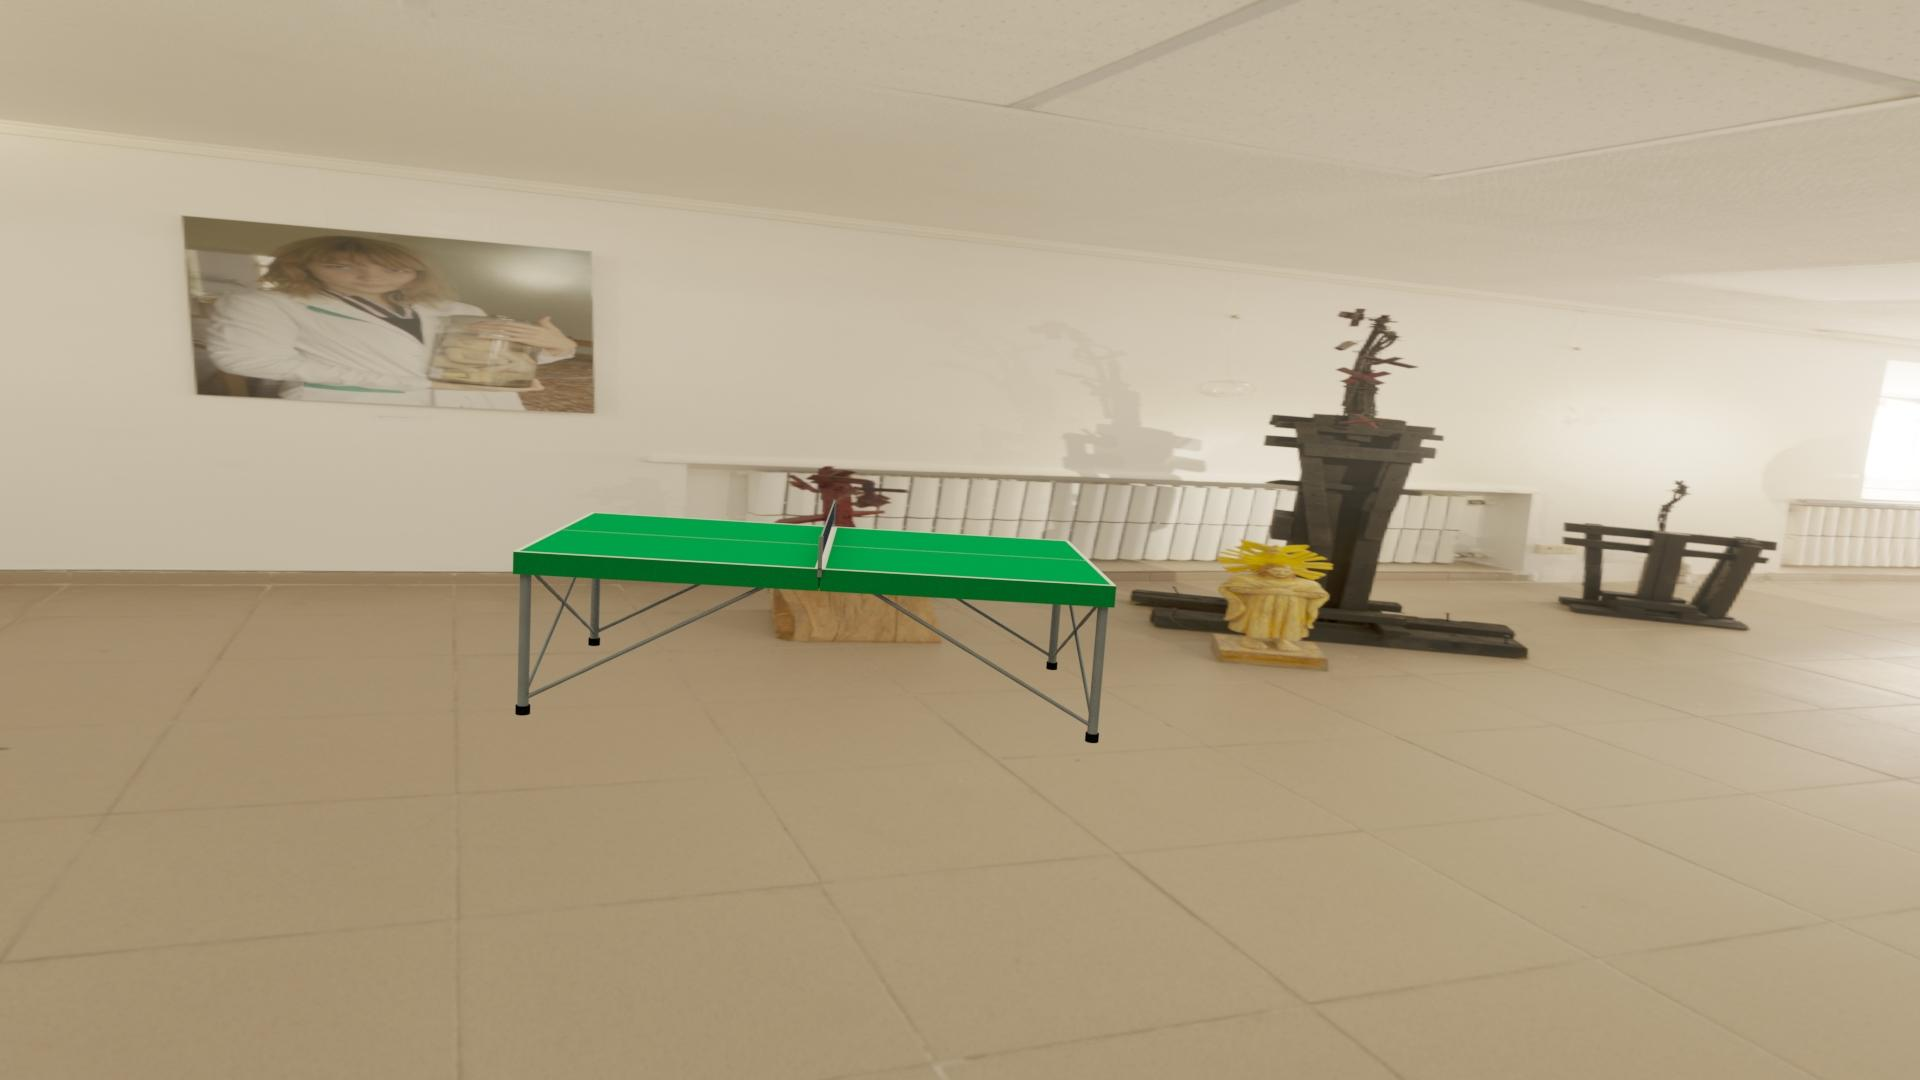table: (520, 513, 1112, 585)
